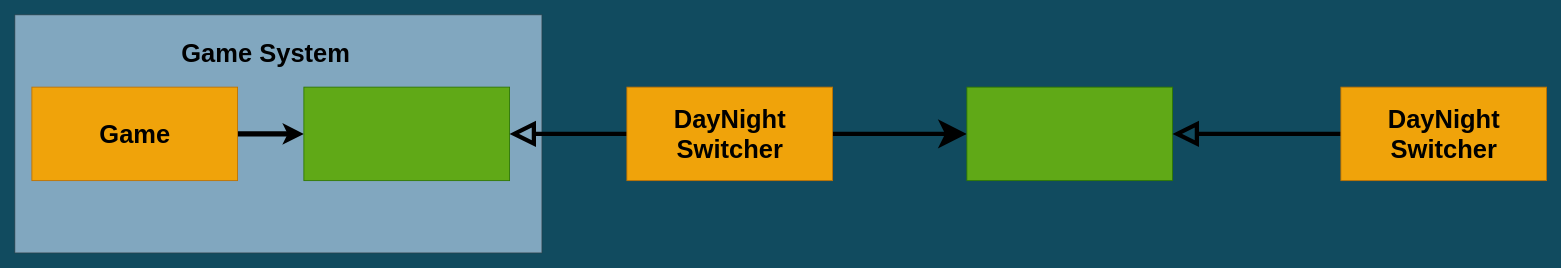
Some shapes in this 1561 by 268 pixel diagram are drawn without their labels. Here are the shapes that lost their labels. From the top down, the box of each, then its label:
(303, 86, 510, 181): «interface» ILoader
(966, 86, 1173, 181): «interface» IDayNight Switchable
